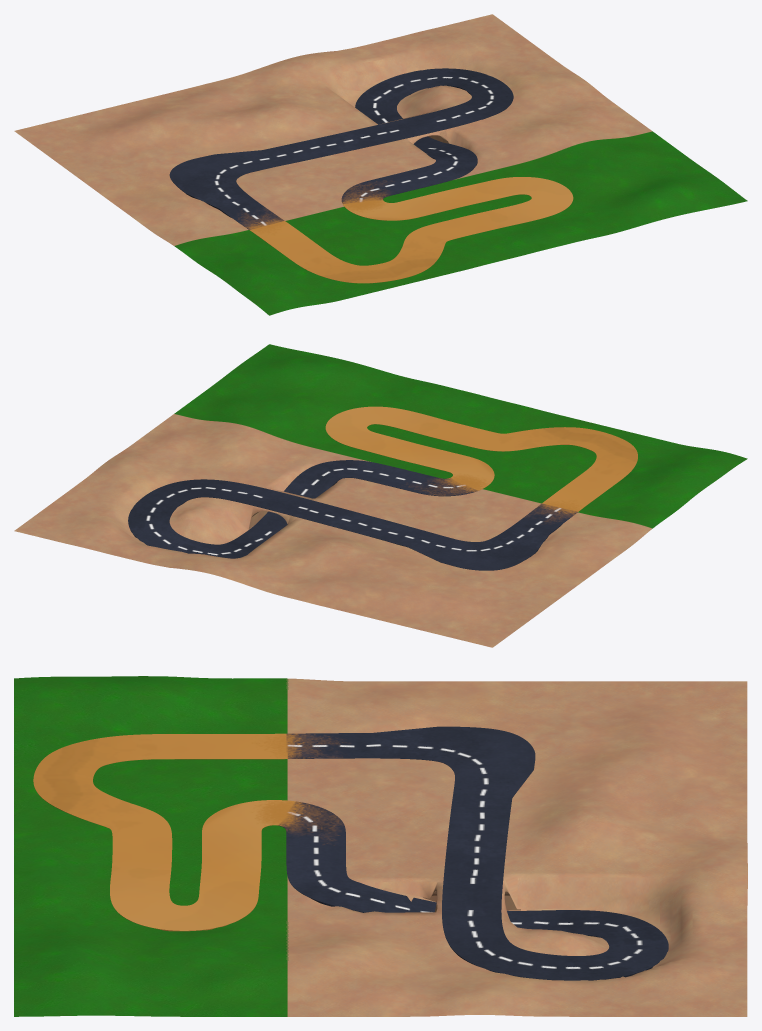
File: Track1.fbx
3 views of the same model, one above another, from view 1: azimuth 30°, elevation 25°; view 2: azimuth 150°, elevation 25°; view 3: azimuth 270°, elevation 25° (orthographic). The views are drawn at different scales.
Visible parts, largest first — view 1: Plane, RaceTack; view 2: Plane, RaceTack; view 3: Plane, RaceTack.
Part boxes in pixels (x1,y1,x2,y2): Plane: [14, 14, 747, 315]; RaceTack: [169, 68, 573, 283]; Plane: [14, 344, 747, 647]; RaceTack: [128, 406, 637, 570]; Plane: [14, 676, 747, 1016]; RaceTack: [33, 726, 668, 980].
Size of the model in its own units: 32804 by 2016 by 30330.
Materials: 2 (2 with a texture image).
